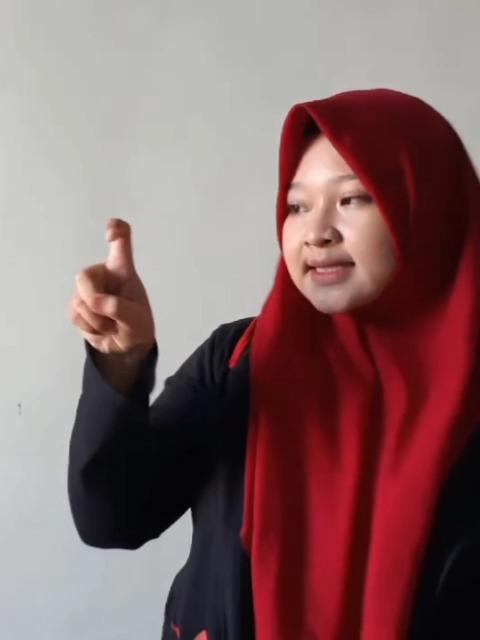X: (62, 208, 168, 358)
